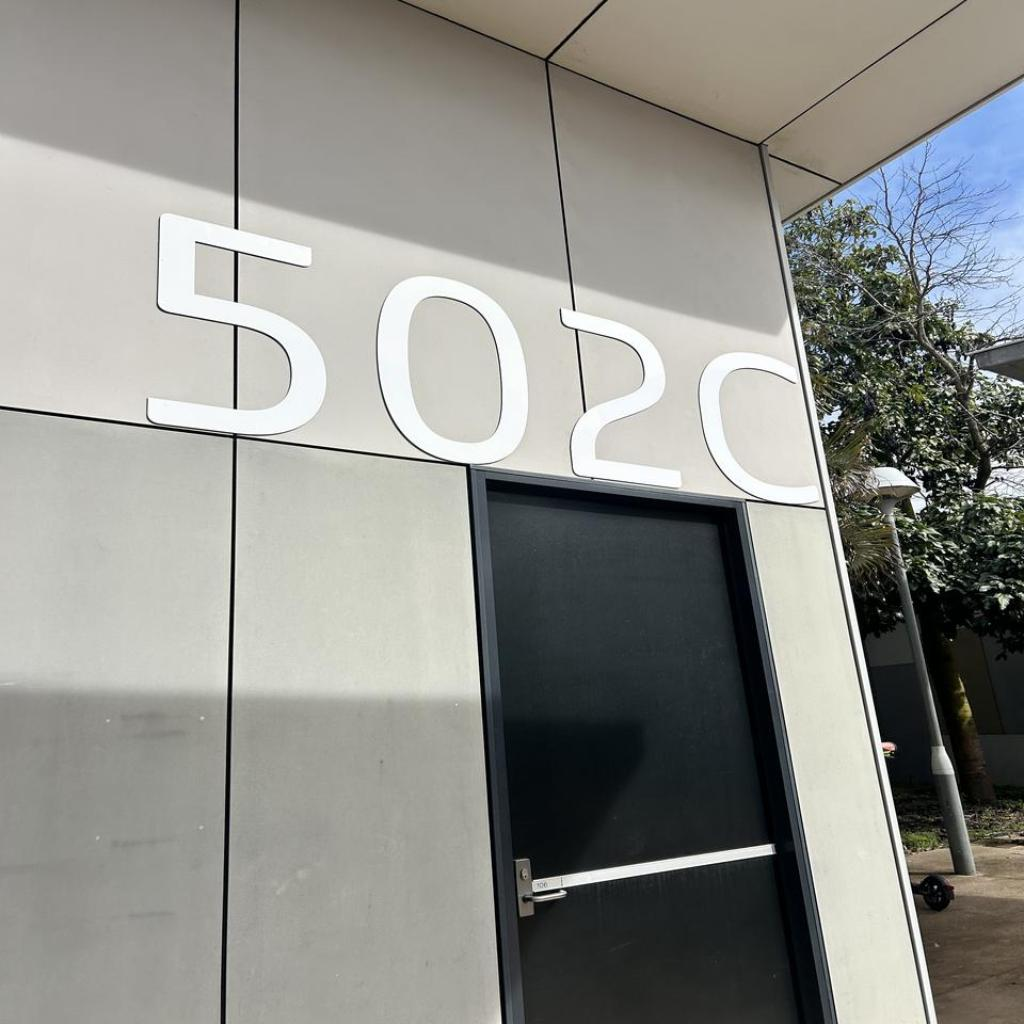BuildingCodes: (140, 206, 826, 510)
